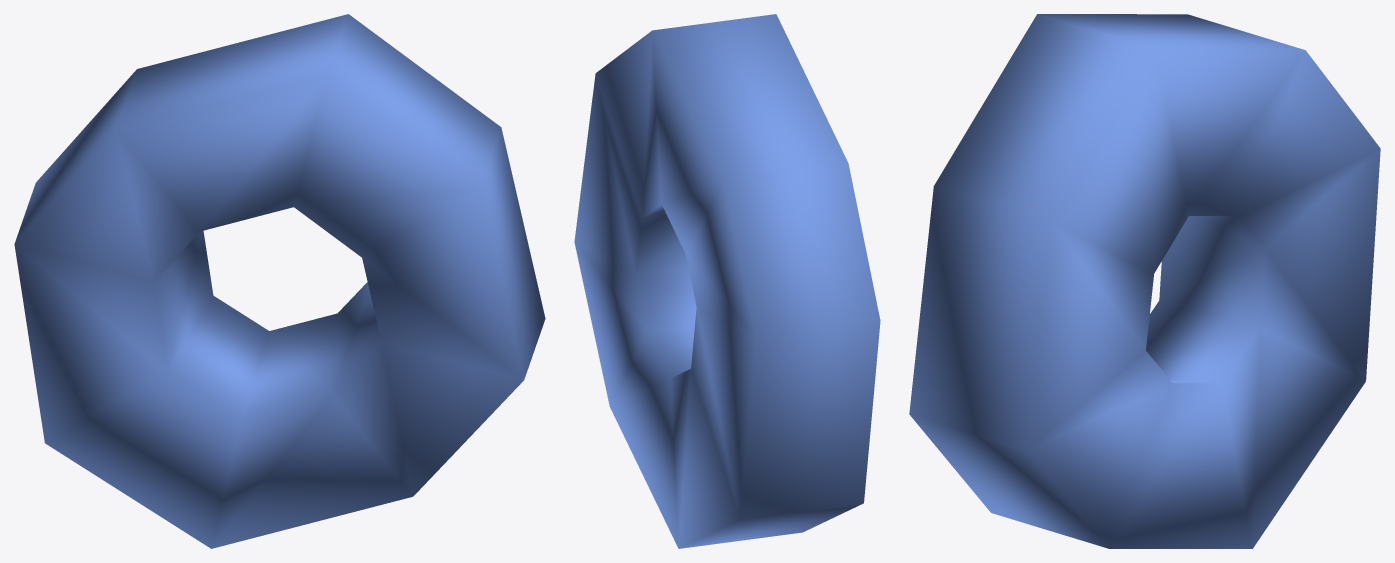
File: collarRing.fbx
3 renders of one model, left to right at view 1: azimuth 30°, elevation 25°; view 2: azimuth 150°, elevation 25°; view 3: azimuth 270°, elevation 25°, orthographic. The views are drawn at different scales.
Visible parts, largest first — view 1: BezierCurve; view 2: BezierCurve; view 3: BezierCurve.
Part boxes in pixels (bbox=[...]): BezierCurve: bbox=[14, 14, 545, 548]; BezierCurve: bbox=[574, 14, 880, 548]; BezierCurve: bbox=[909, 14, 1380, 548].
Bounding box in the file's own units: 2 × 2.21 × 1.74.
